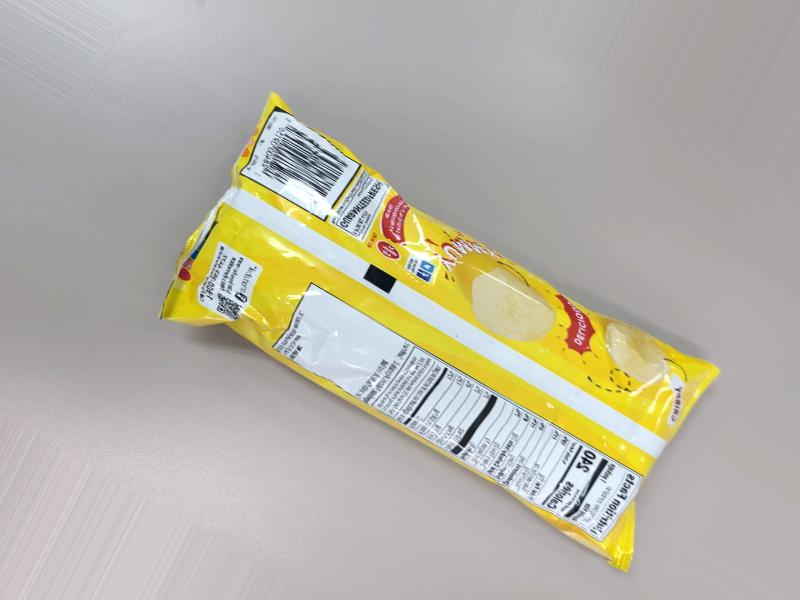lays: (219, 119, 745, 600)
